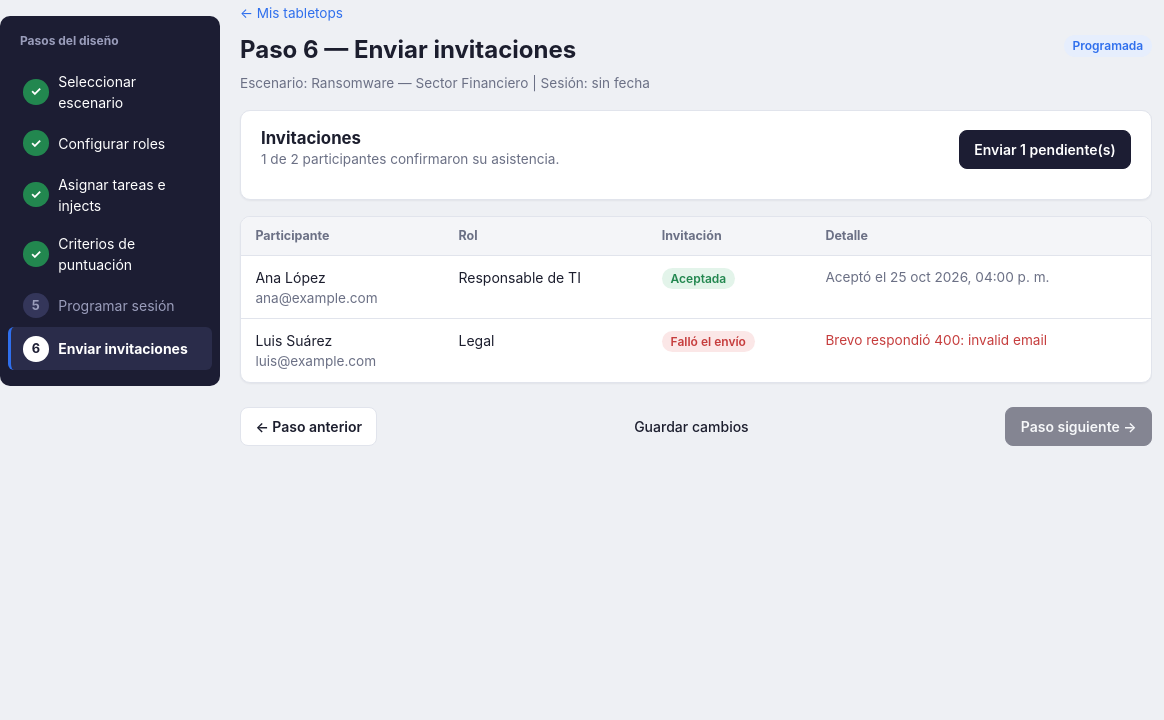
it: DisenadorPage › paso 6: muestra el estado de cada invitación y reenvía las fallidas
Expected: the text "1 de 2 participantes confirmaron su asistencia." is shown, [261,149,559,170]
Expected: the text "Aceptada" is shown, [662,268,735,289]
Click the button "Enviar 1 pendiente(s)": click(1045, 149) [959,130,1131,169]
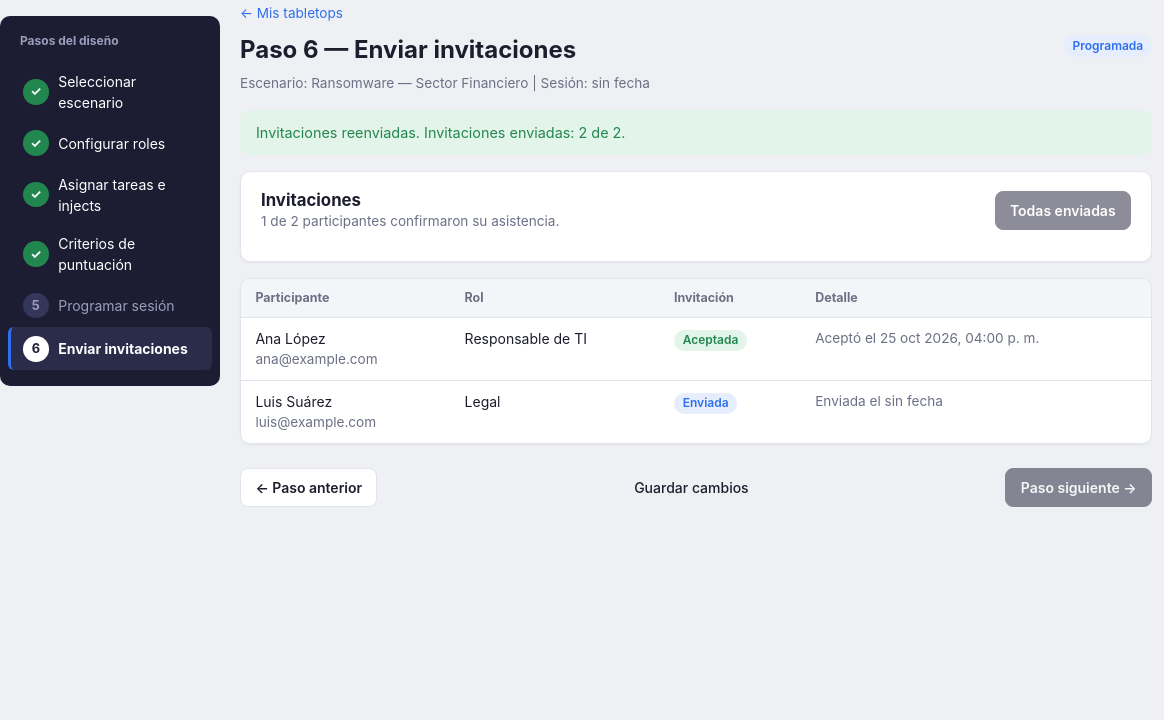
Result: the text "Invitaciones reenviadas. Invitaciones enviadas: 2 de 2." is shown at [240,110,1152,155]
Result: the button "Todas enviadas" is disabled at [994,191,1131,230]
